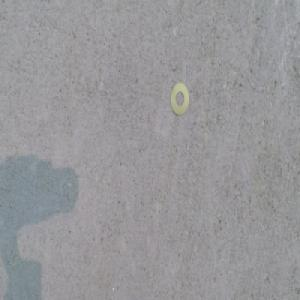Washer: (171, 83, 190, 115)
